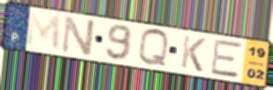9: (104, 23, 134, 62)
E: (210, 39, 244, 80)
K: (179, 34, 208, 75)
M: (25, 10, 63, 53)
N: (59, 14, 97, 58)
Q: (136, 27, 170, 69)
